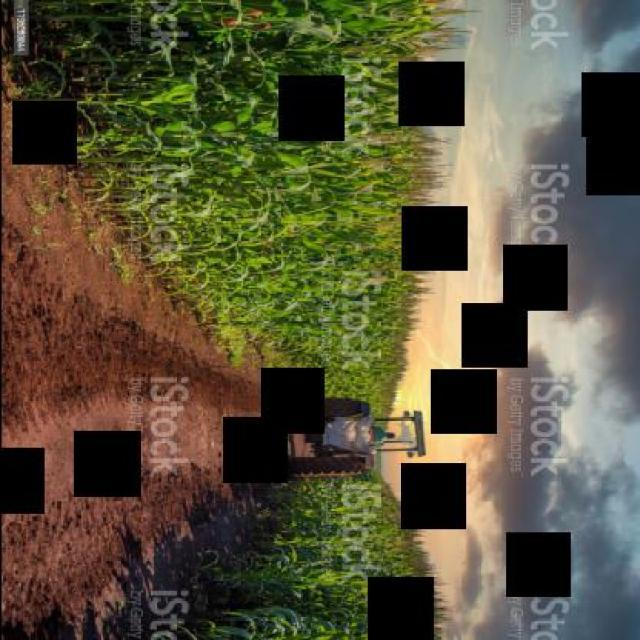Tratores - v5 YOLO V8L 2024-11-13: (272, 371, 452, 500)
